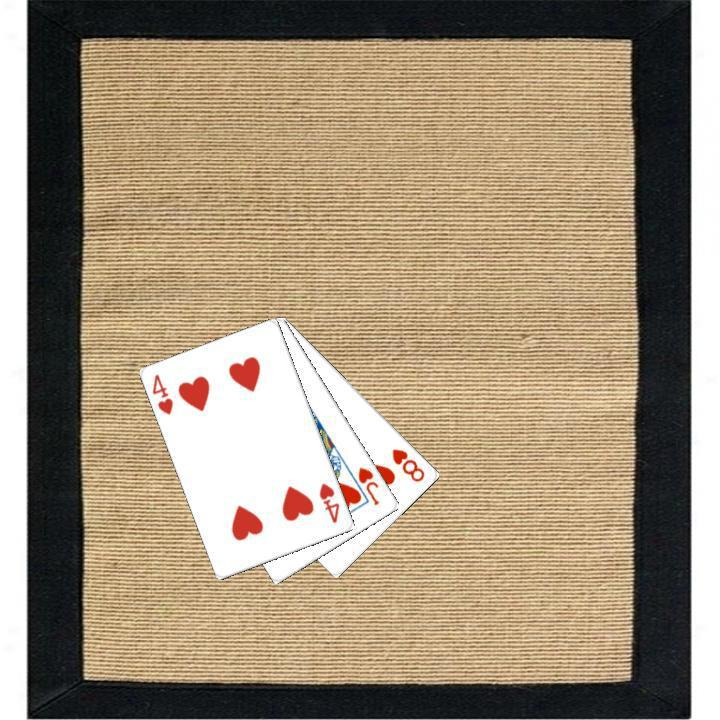4: (148, 370, 176, 417), (315, 479, 342, 525)
8: (388, 444, 427, 484)
J: (354, 463, 382, 508)
